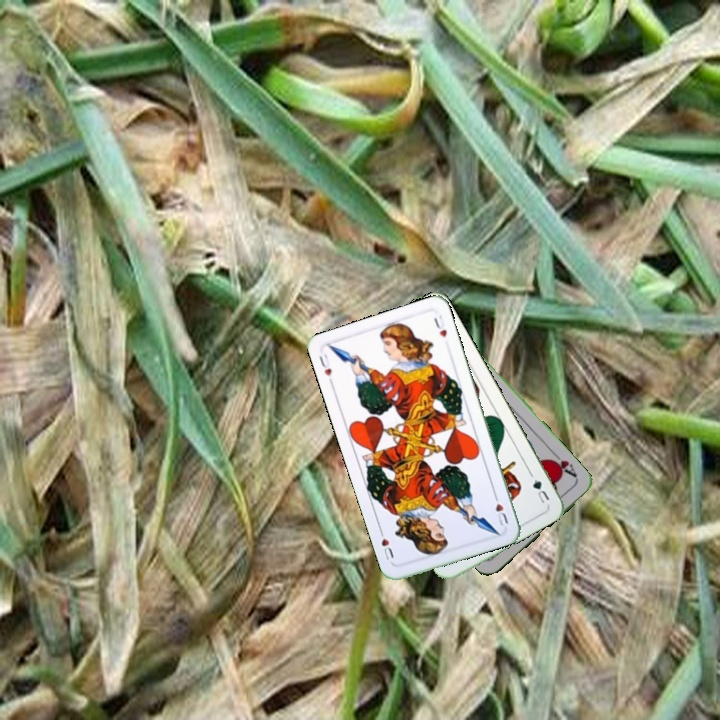GU: (529, 475, 552, 507)
HA: (546, 448, 579, 480)
HU: (490, 489, 511, 529), (315, 350, 334, 380)
